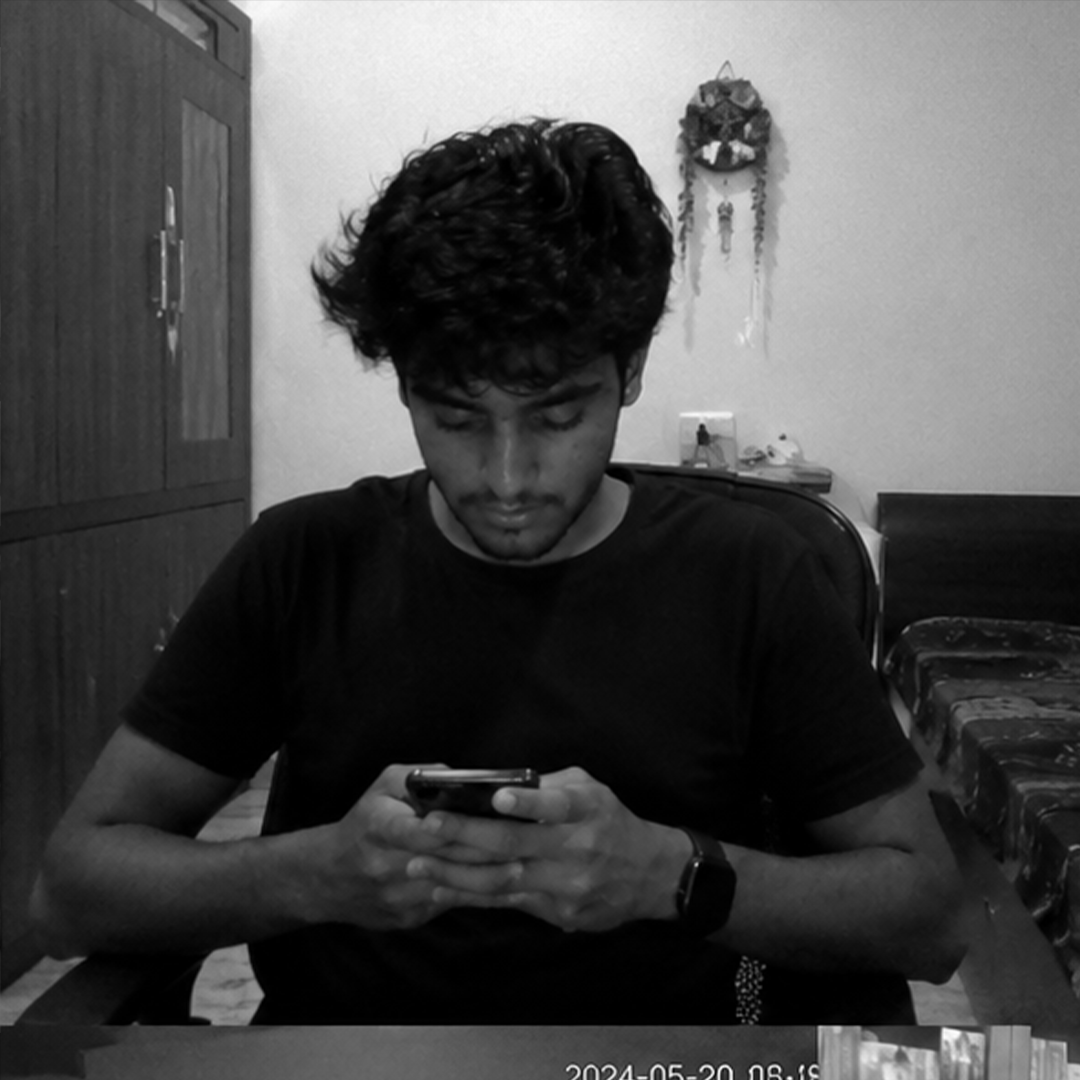distracted: (285, 164, 764, 897)
